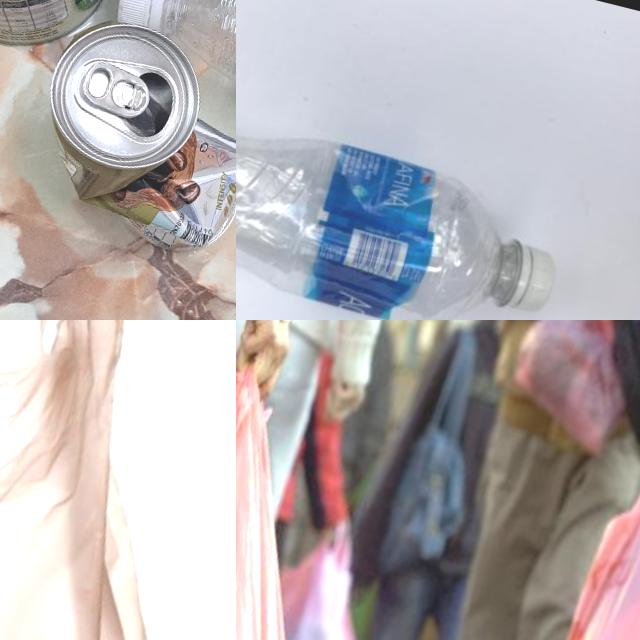aba de lata: (76, 60, 154, 122)
garrafa plástica: (236, 77, 523, 320)
lata: (18, 7, 236, 262)
sacola plástica: (0, 320, 236, 640), (236, 333, 397, 640), (517, 406, 640, 640), (495, 320, 640, 480)
tampa plástica: (498, 243, 562, 318), (111, 0, 176, 34)
